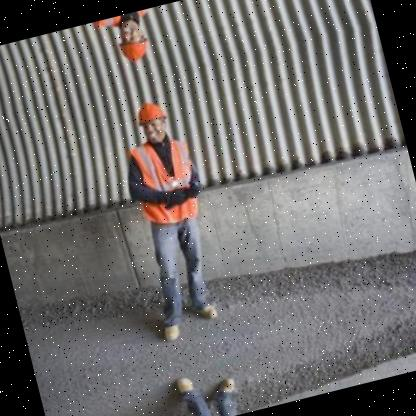bota: (158, 314, 188, 344), (190, 300, 219, 324)
capacete: (112, 13, 152, 66), (132, 98, 172, 146)
